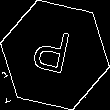P_S: (32, 27, 78, 83)
